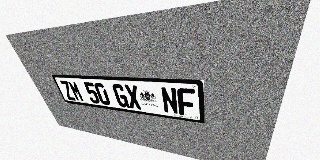0: (93, 83, 111, 105)
5: (83, 82, 101, 104)
F: (177, 88, 195, 117)
G: (111, 84, 130, 108)
M: (67, 81, 85, 102)
N: (160, 87, 179, 115)
X: (124, 84, 142, 110)
Z: (59, 80, 76, 101)
